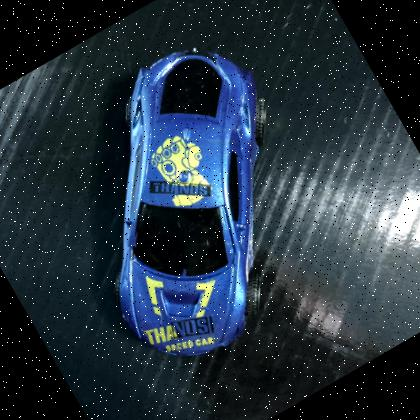Car: (8, 9, 374, 393)
